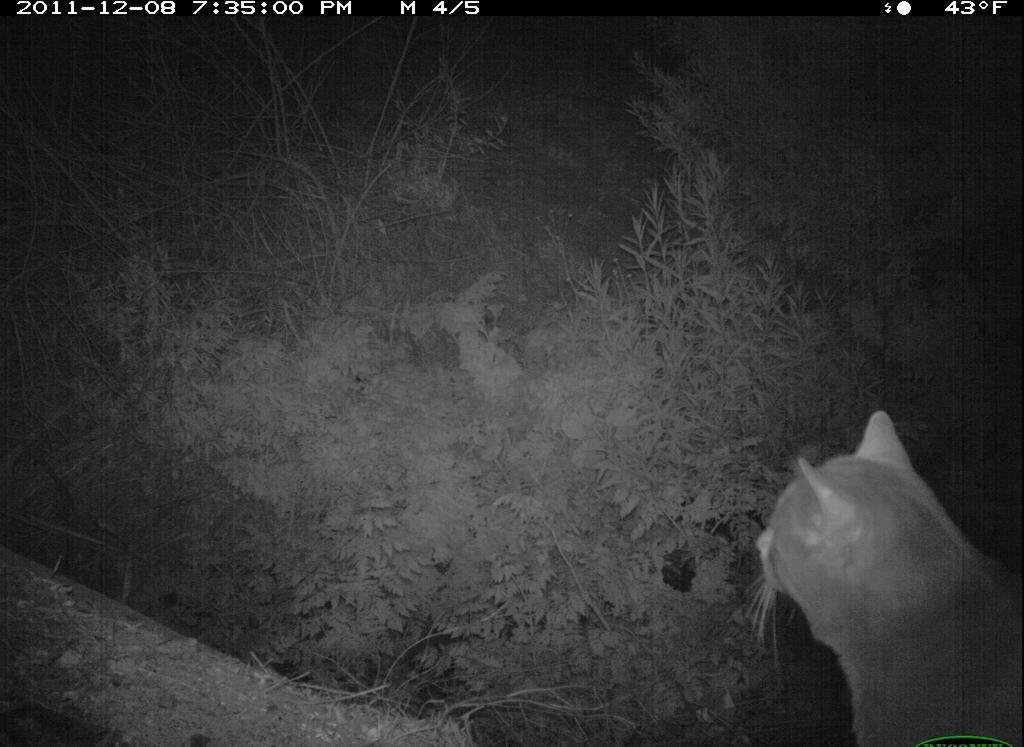cat: (738, 405, 1022, 747)
